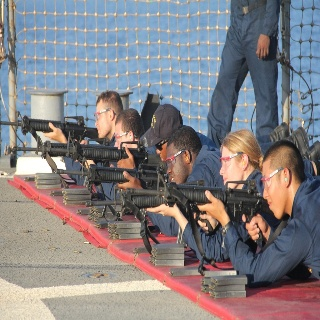rifle: (84, 177, 283, 237), (5, 134, 167, 172), (52, 159, 173, 195), (1, 112, 105, 143)
